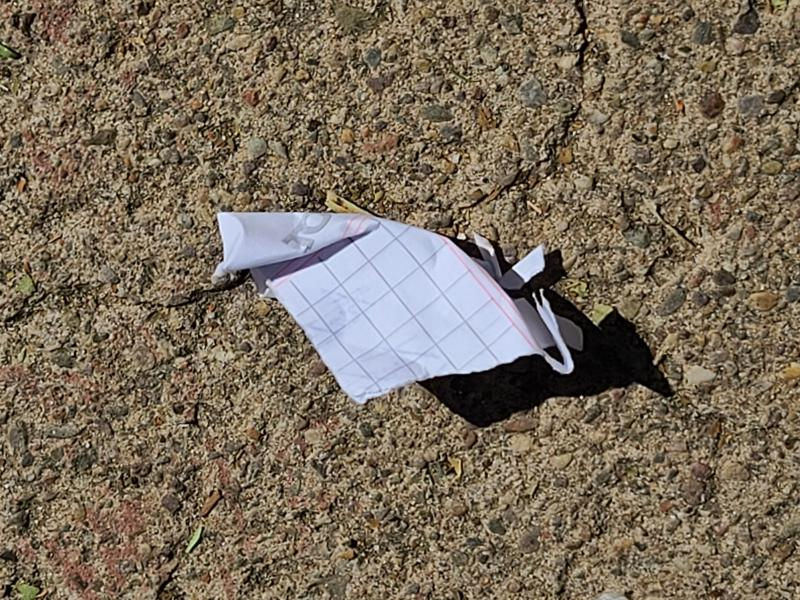papel: (213, 211, 602, 405)
